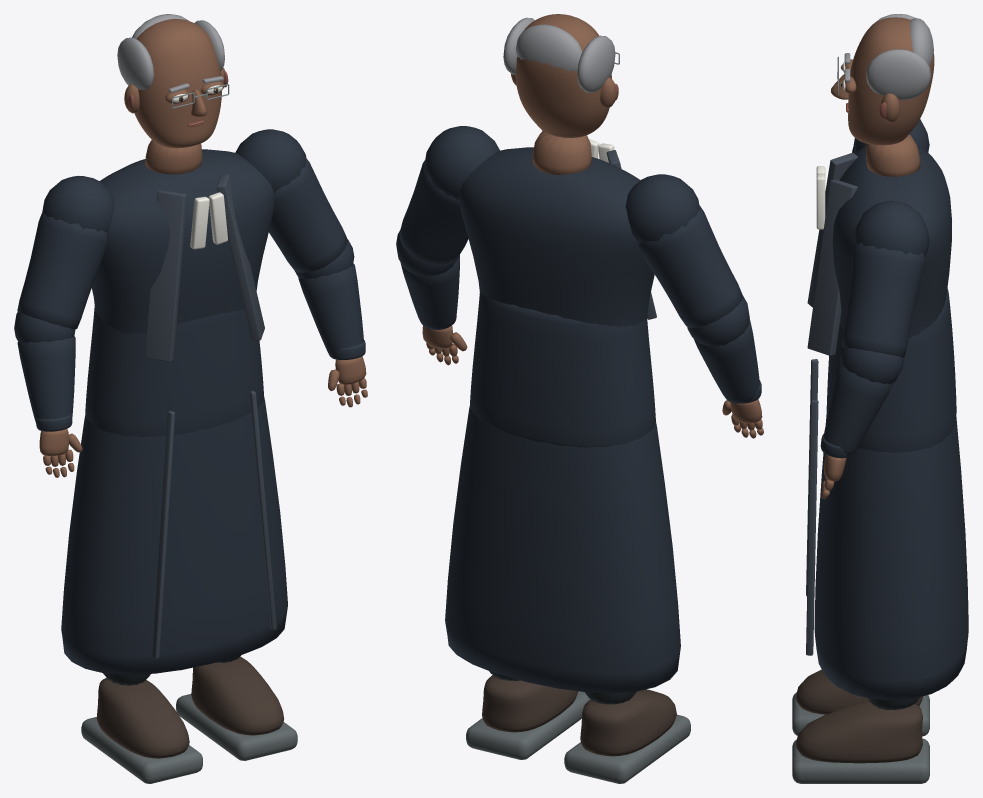
File: Judge.fbx
3 views of the same model, side by side, from view 1: azimuth 30°, elevation 25°; view 2: azimuth 150°, elevation 25°; view 3: azimuth 270°, elevation 25° (orthographic). The views are drawn at different scales.
Visible parts, largest first — view 1: Judge_Hips, Judge_Chest, Judge_Head, Judge_UpperArm_R, Judge_UpperArm_L, Judge_Foot_R, Judge_Foot_L, Judge_Forearm_R, Judge_Forearm_L, Judge_Neck, Judge_Hand_R, Judge_Hand_L; view 2: Judge_Hips, Judge_Chest, Judge_Head, Judge_UpperArm_R, Judge_Foot_R, Judge_UpperArm_L, Judge_Foot_L, Judge_Forearm_R, Judge_Forearm_L, Judge_Neck, Judge_Hand_L, Judge_Hand_R; view 3: Judge_Hips, Judge_Chest, Judge_UpperArm_L, Judge_Head, Judge_Foot_L, Judge_Forearm_L, Judge_Foot_R, Judge_Neck, Judge_Hand_L, Judge_UpperArm_R, Judge_Calf_L.
Part boxes in pixels (x1,y1,x2,y2): Judge_Hips: (61,306,287,674); Judge_Chest: (91,149,274,362); Judge_Head: (117,14,229,148); Judge_UpperArm_R: (17,175,114,329); Judge_UpperArm_L: (235,129,347,272); Judge_Foot_R: (81,678,202,783); Judge_Foot_L: (176,656,297,760); Judge_Forearm_R: (14,312,75,431); Judge_Forearm_L: (294,240,365,359); Judge_Neck: (145,140,202,174); Judge_Hand_R: (39,428,82,477); Judge_Hand_L: (328,356,367,407); Judge_Hips: (445,293,680,693); Judge_Chest: (458,139,656,327); Judge_Head: (503,14,619,137); Judge_UpperArm_R: (625,174,742,327); Judge_Foot_R: (564,689,690,783); Judge_UpperArm_L: (399,126,499,265); Judge_Foot_L: (466,675,590,759); Judge_Forearm_R: (687,296,761,403); Judge_Forearm_L: (396,230,459,329); Judge_Neck: (532,130,591,174); Judge_Hand_L: (422,325,467,365); Judge_Hand_R: (722,399,763,438); Judge_Hips: (806,288,968,700); Judge_Chest: (807,146,951,355); Judge_UpperArm_L: (841,200,929,357); Judge_Head: (831,14,934,145); Judge_Foot_L: (792,701,929,783); Judge_Forearm_L: (820,347,903,458); Judge_Foot_R: (792,669,929,736); Judge_Neck: (865,134,920,176); Judge_Hand_L: (821,454,846,499); Judge_UpperArm_R: (852,119,929,153); Judge_Calf_L: (868,697,919,709).
Size of the model in its own units: 0.8999 by 1.83 by 0.4048.
